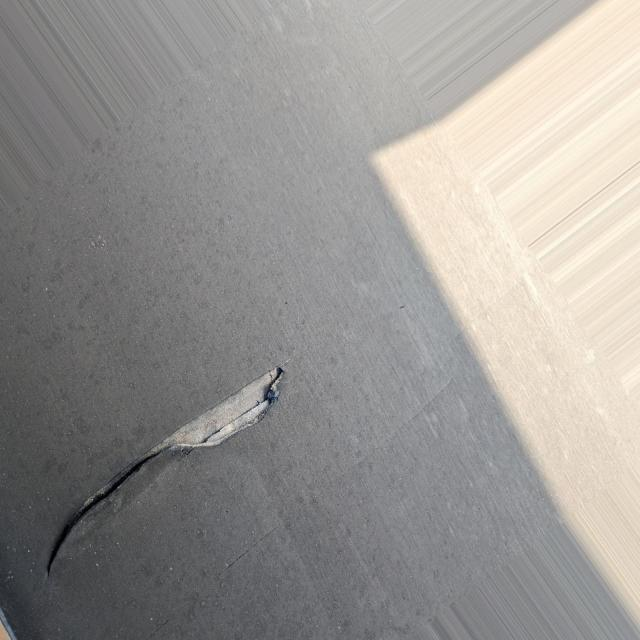Tear: (48, 366, 284, 574)
